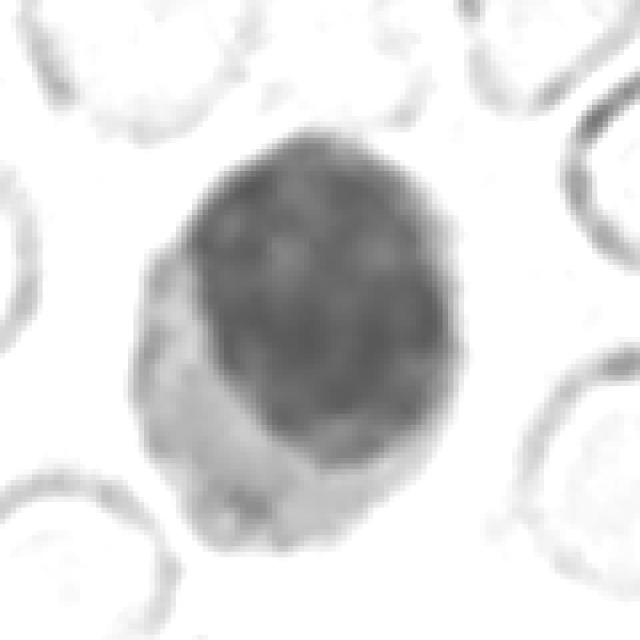WBC: (107, 116, 469, 568)
